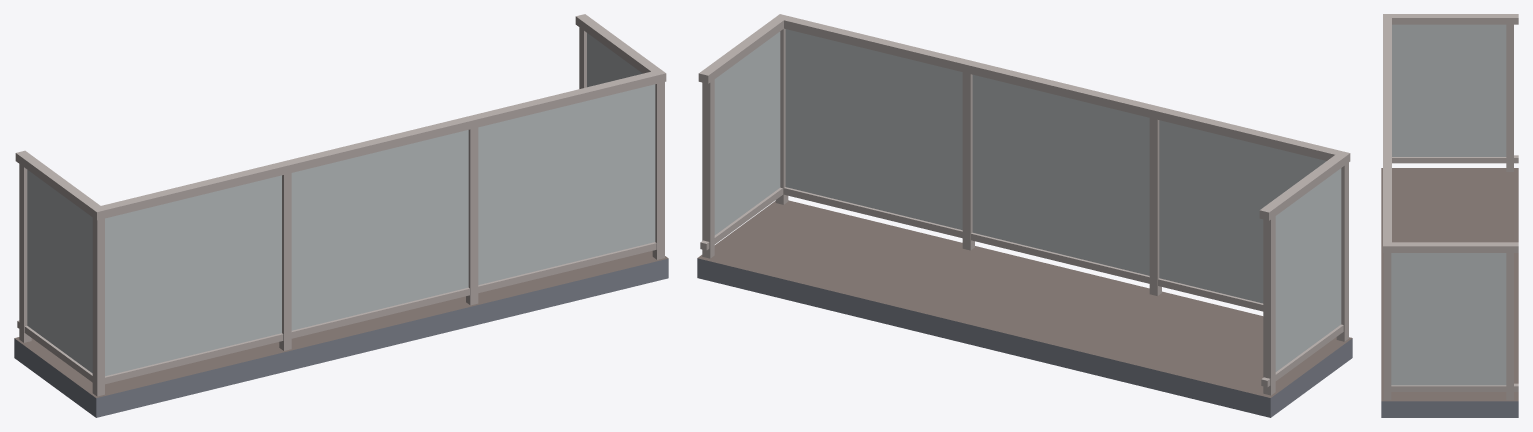
Rendered from SM_Fixture_BalconyFull_AluPanel_364_01.gltf.
3 views of the same model, side by side, from view 1: azimuth 30°, elevation 25°; view 2: azimuth 150°, elevation 25°; view 3: azimuth 270°, elevation 25° (orthographic). The views are drawn at different scales.
Visible parts, largest first — view 1: SM_Fixture_BalconyFull_AluPanel_364_01; view 2: SM_Fixture_BalconyFull_AluPanel_364_01; view 3: SM_Fixture_BalconyFull_AluPanel_364_01.
Part boxes in pixels (box(x1,y1,x2,y2)): SM_Fixture_BalconyFull_AluPanel_364_01: box(14, 14, 668, 417); SM_Fixture_BalconyFull_AluPanel_364_01: box(697, 14, 1352, 417); SM_Fixture_BalconyFull_AluPanel_364_01: box(1381, 14, 1518, 417).
Bounding box in the file's own units: 3.63 × 1.24 × 0.9.
1 material, 1 textured.
